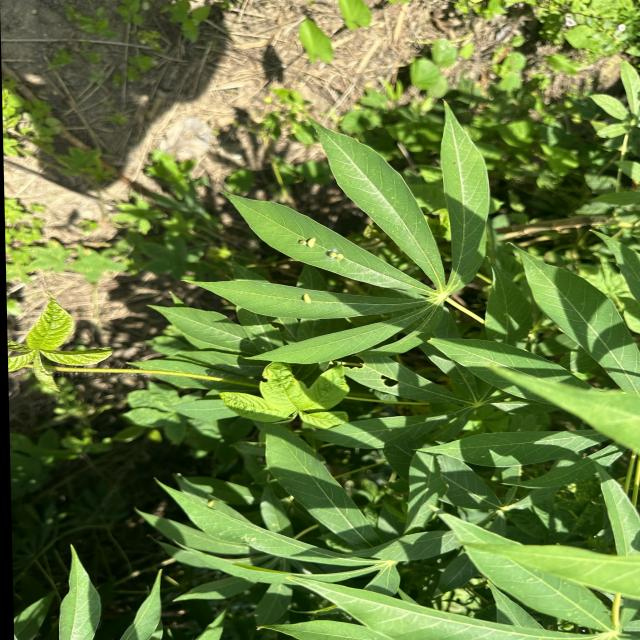Maleza: (6, 292, 113, 382), (232, 375, 332, 426)
Mosca: (294, 228, 325, 250), (295, 288, 318, 312), (327, 247, 344, 271)
